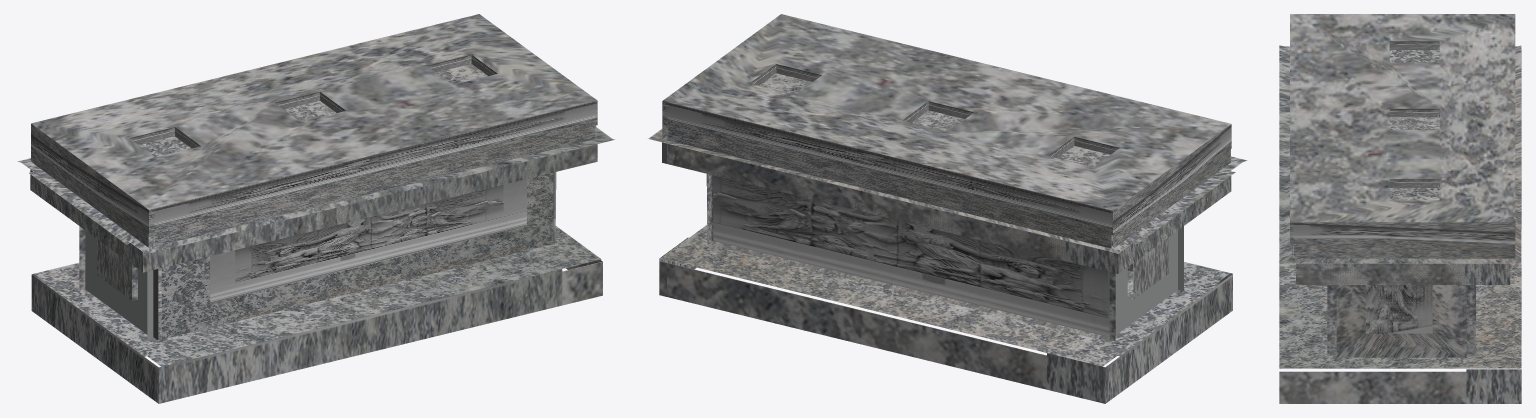
The model's file is 25 altar 2-1.fbx.
3 renders of one model, left to right at view 1: azimuth 30°, elevation 25°; view 2: azimuth 150°, elevation 25°; view 3: azimuth 270°, elevation 25°, orthographic. The views are drawn at different scales.
Visible parts, largest first — view 1: Box009; view 2: Box009; view 3: Box009.
Part boxes in pixels (bbox=[...]): Box009: bbox=[17, 14, 614, 403]; Box009: bbox=[647, 14, 1247, 403]; Box009: bbox=[1279, 14, 1521, 403].
Bounding box in the file's own units: 33.69 × 12.92 × 15.61.
Materials: 1 (1 with a texture image).
